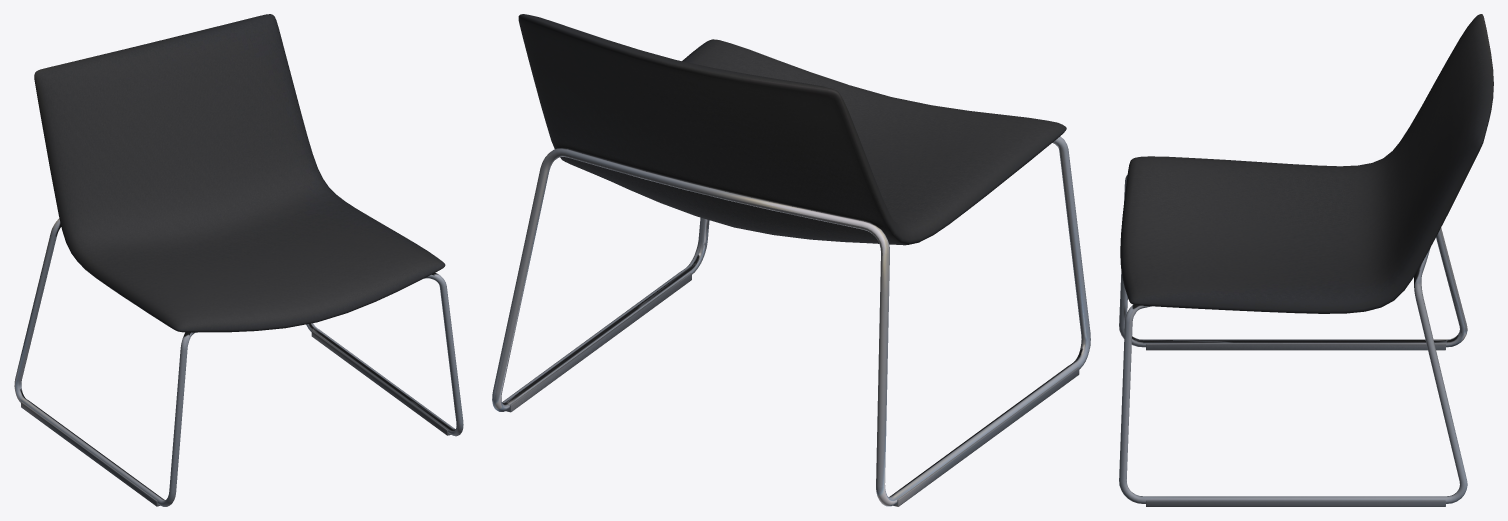
File: catifa_lounge_white_chrome_plated.glb
3 views of the same model, side by side, from view 1: azimuth 30°, elevation 25°; view 2: azimuth 150°, elevation 25°; view 3: azimuth 270°, elevation 25° (orthographic). The views are drawn at different scales.
Parts seen in each view (by area): view 1: catifa_lounge-black; view 2: catifa_lounge-black; view 3: catifa_lounge-black.
Part boxes in pixels (box(x1,y1,x2,y2)): catifa_lounge-black: box(14, 14, 463, 506); catifa_lounge-black: box(492, 14, 1090, 506); catifa_lounge-black: box(1119, 14, 1493, 506).
Size of the model in its own units: 0.6871 by 0.6973 by 0.6765.
Materials: 1 (1 with a texture image).
